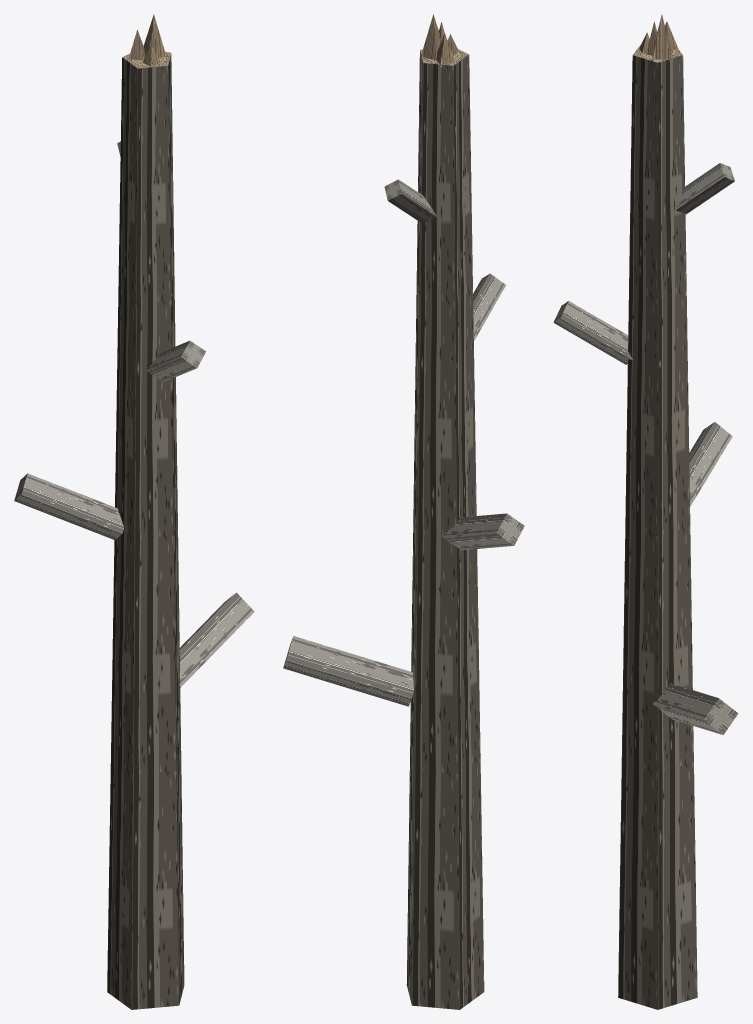
Rendered from Snag.glb.
3 views of the same model, side by side, from view 1: azimuth 30°, elevation 25°; view 2: azimuth 150°, elevation 25°; view 3: azimuth 270°, elevation 25° (orthographic).
Visible parts, largest first — view 1: Snag; view 2: Snag; view 3: Snag.
Boxes of the visible parts, x1,y1,x2,y2 form: Snag: (14, 14, 254, 1009); Snag: (283, 14, 524, 1009); Snag: (553, 14, 738, 1009).
Size of the model in its own units: 1.07 by 4.28 by 0.7315.
1 material, 1 textured.
